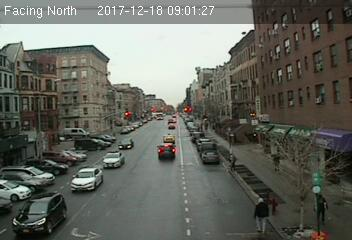car: (12, 192, 68, 237), (70, 168, 104, 192), (156, 142, 177, 159), (117, 137, 136, 151), (202, 150, 220, 163)
pedestrian: (252, 193, 271, 235), (314, 194, 328, 227)
police: (100, 151, 126, 170)
